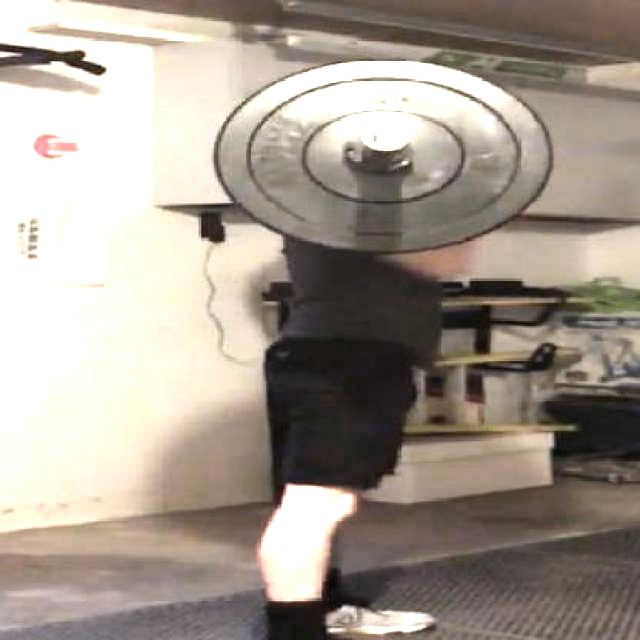barbell: (212, 55, 570, 258)
